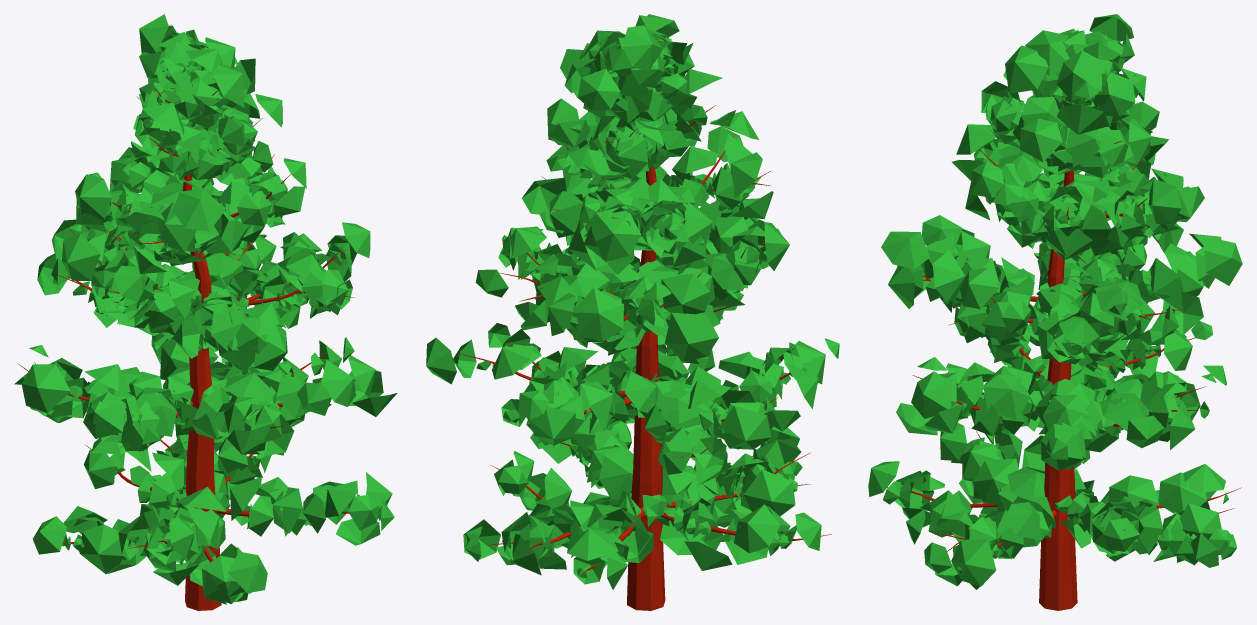
File: PineTree.fbx
The picture shows the model from 3 angles, left to right: view 1: azimuth 30°, elevation 25°; view 2: azimuth 150°, elevation 25°; view 3: azimuth 270°, elevation 25°; orthographic projection. The views are drawn at different scales.
Visible parts, largest first — view 1: tree; view 2: tree; view 3: tree.
Boxes of the visible parts, x1,y1,x2,y2 form: tree: (14, 14, 397, 610); tree: (426, 14, 839, 610); tree: (868, 14, 1242, 610).
Bounding box in the file's own units: 218 × 363 × 212.
